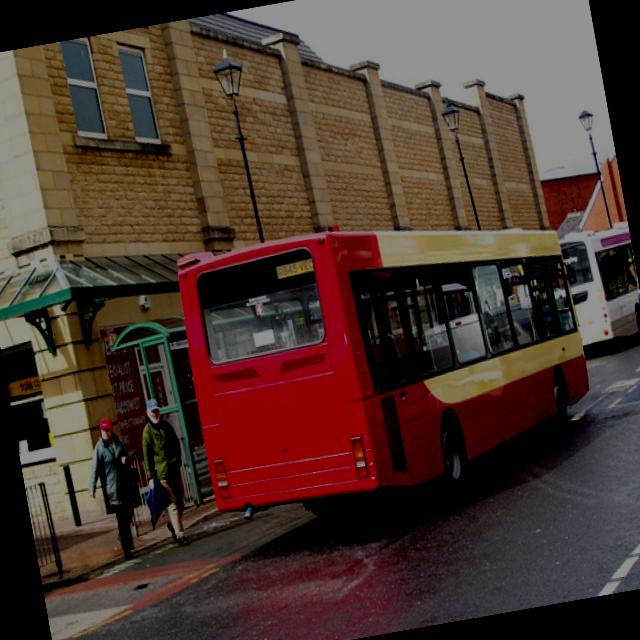Vehicle: (169, 185, 612, 535), (558, 223, 640, 346)
